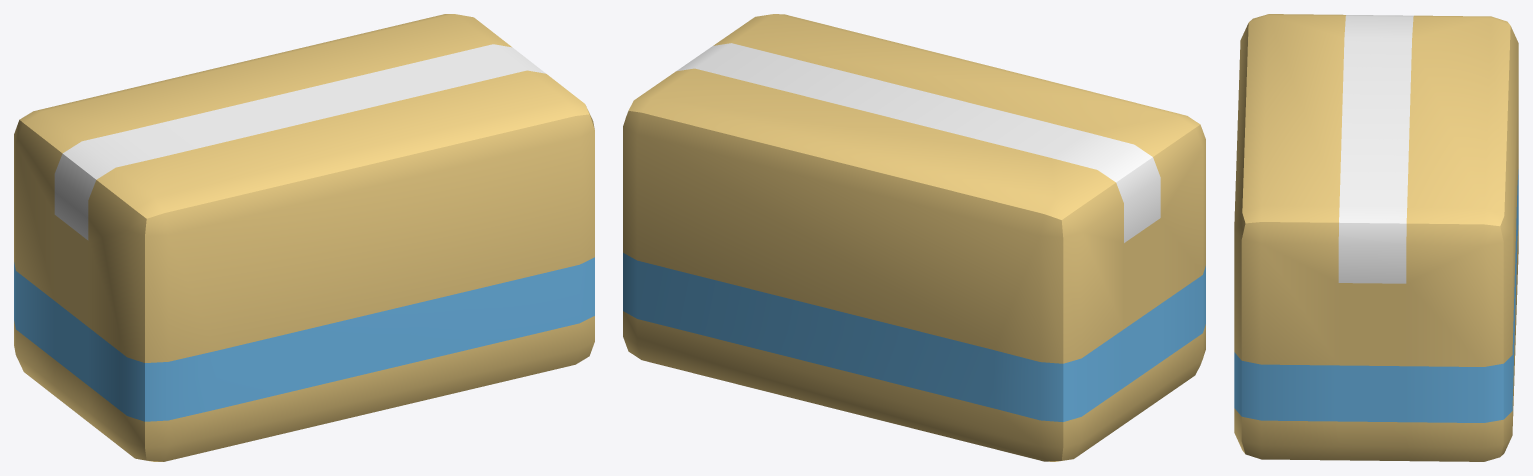
The model's file is Props_Box_Blue_02.fbx.
The picture shows the model from 3 angles, left to right: view 1: azimuth 30°, elevation 25°; view 2: azimuth 150°, elevation 25°; view 3: azimuth 270°, elevation 25°; orthographic projection. The views are drawn at different scales.
Parts seen in each view (by area): view 1: Props_Box_Blue_02; view 2: Props_Box_Blue_02; view 3: Props_Box_Blue_02.
Part boxes in pixels (left/top/right/bottom): Props_Box_Blue_02: left=14, top=14, right=594, bottom=461; Props_Box_Blue_02: left=623, top=14, right=1205, bottom=461; Props_Box_Blue_02: left=1234, top=14, right=1518, bottom=461.
Bounding box in the file's own units: 96.84 × 52.32 × 53.48.
